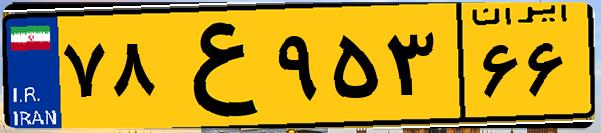3: (385, 28, 445, 110)
5: (330, 28, 385, 110)
6: (475, 38, 525, 113), (525, 38, 570, 115)
7: (57, 26, 110, 100)
8: (110, 28, 158, 98)
9: (270, 28, 330, 110)
ع: (158, 12, 270, 120)
